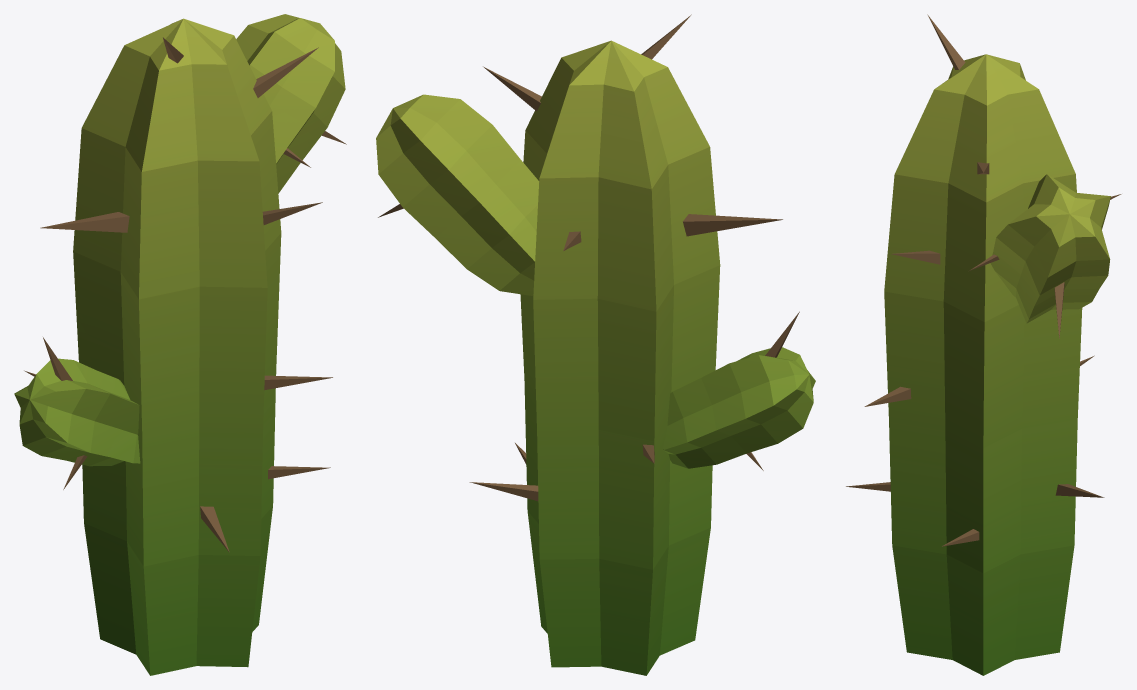
File: Plant_04.fbx
3 views of the same model, side by side, from view 1: azimuth 30°, elevation 25°; view 2: azimuth 150°, elevation 25°; view 3: azimuth 270°, elevation 25° (orthographic). The views are drawn at different scales.
Parts seen in each view (by area): view 1: Plant_04; view 2: Plant_04; view 3: Plant_04.
Part boxes in pixels (x1,y1,x2,y2): Plant_04: (14,14,346,675); Plant_04: (376,14,815,675); Plant_04: (846,14,1121,675).
Size of the model in its own units: 40.96 by 64.39 by 26.86.
